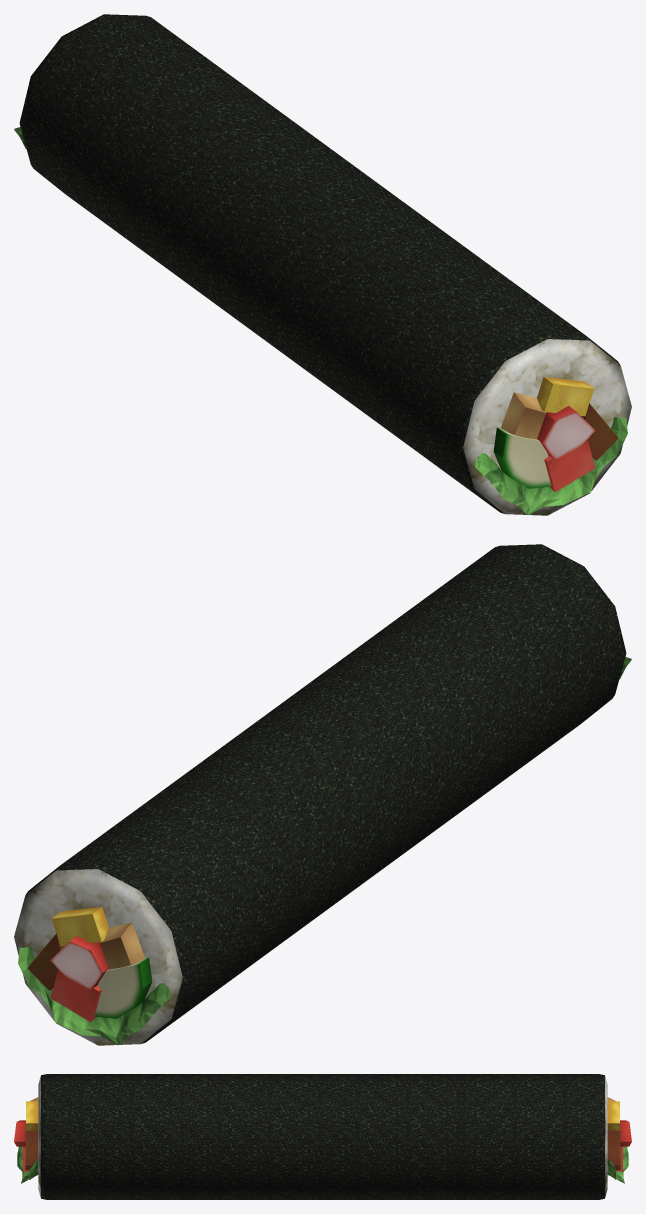
File: ehoumaki.FBX
3 views of the same model, one above another, from view 1: azimuth 30°, elevation 25°; view 2: azimuth 150°, elevation 25°; view 3: azimuth 270°, elevation 25° (orthographic). The views are drawn at different scales.
Parts seen in each view (by area): view 1: ehoumaki; view 2: ehoumaki; view 3: ehoumaki.
Part boxes in pixels (x1,y1,x2,y2): ehoumaki: (14, 14, 631, 515); ehoumaki: (14, 544, 631, 1045); ehoumaki: (14, 1074, 631, 1199).
Bounding box in the file's own units: 2.88 × 2.88 × 14.09.
